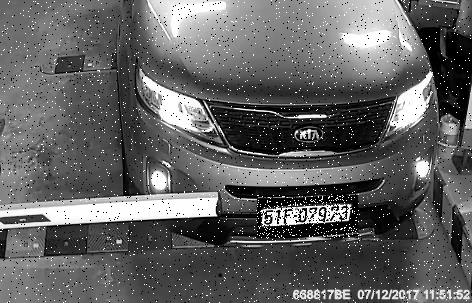License-plate: (259, 197, 361, 241)
